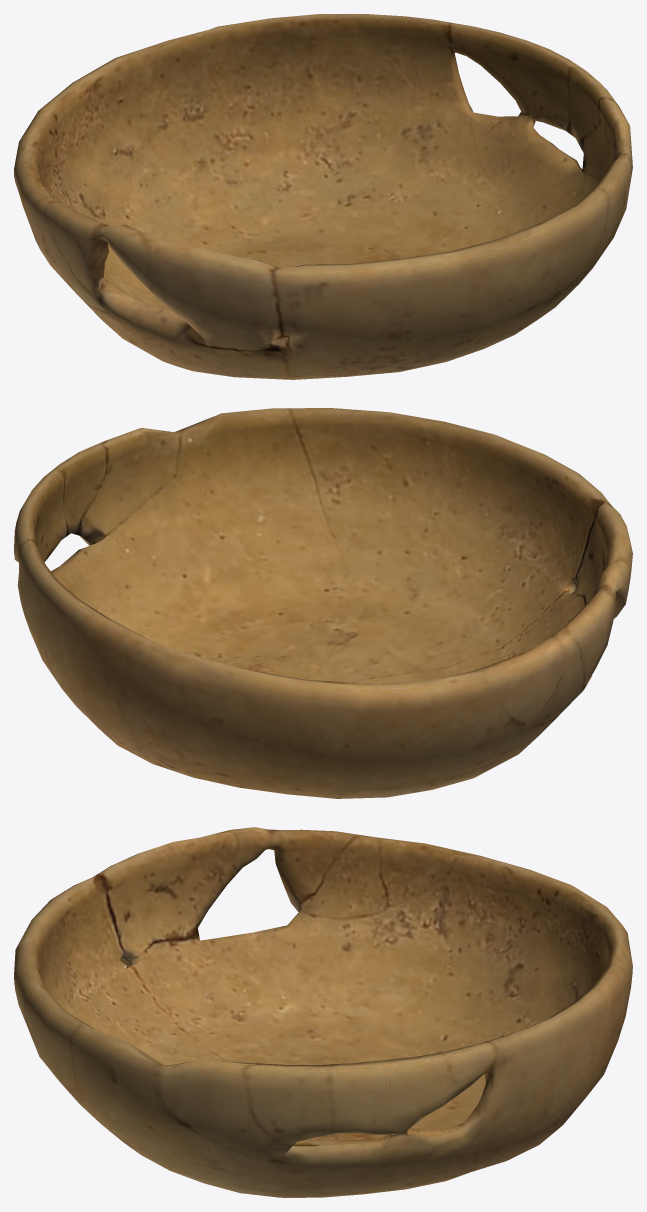
Rendered from antiquity6_62.fbx.
3 views of the same model, one above another, from view 1: azimuth 30°, elevation 25°; view 2: azimuth 150°, elevation 25°; view 3: azimuth 270°, elevation 25° (orthographic). The views are drawn at different scales.
Visible parts, largest first — view 1: 0500; view 2: 0500; view 3: 0500.
Part boxes in pixels (x1=…): 0500: x1=14, y1=14, x2=632, y2=379; 0500: x1=14, y1=408, x2=632, y2=798; 0500: x1=14, y1=827, x2=632, y2=1197.
Bounding box in the file's own units: 38.68 × 12.68 × 38.39.
Materials: 1 (1 with a texture image).
